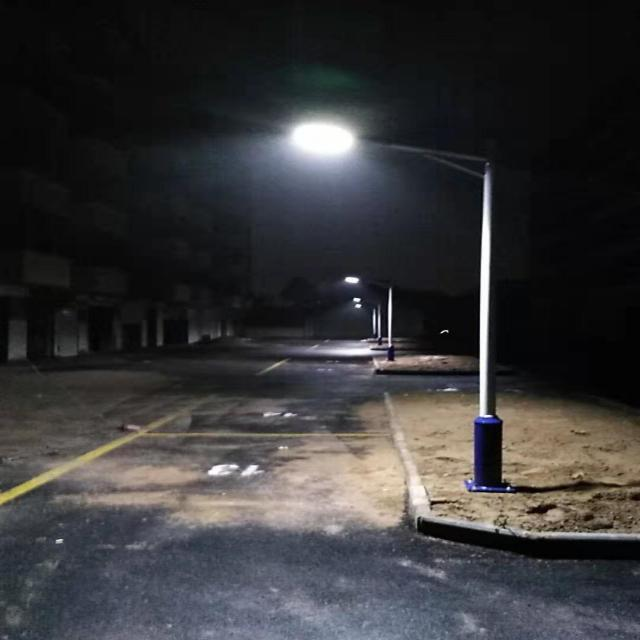pole: (462, 185, 517, 492), (382, 291, 398, 360)
